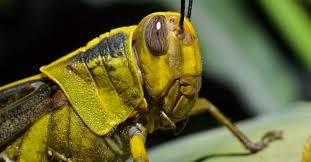Insects: (0, 0, 292, 162)
